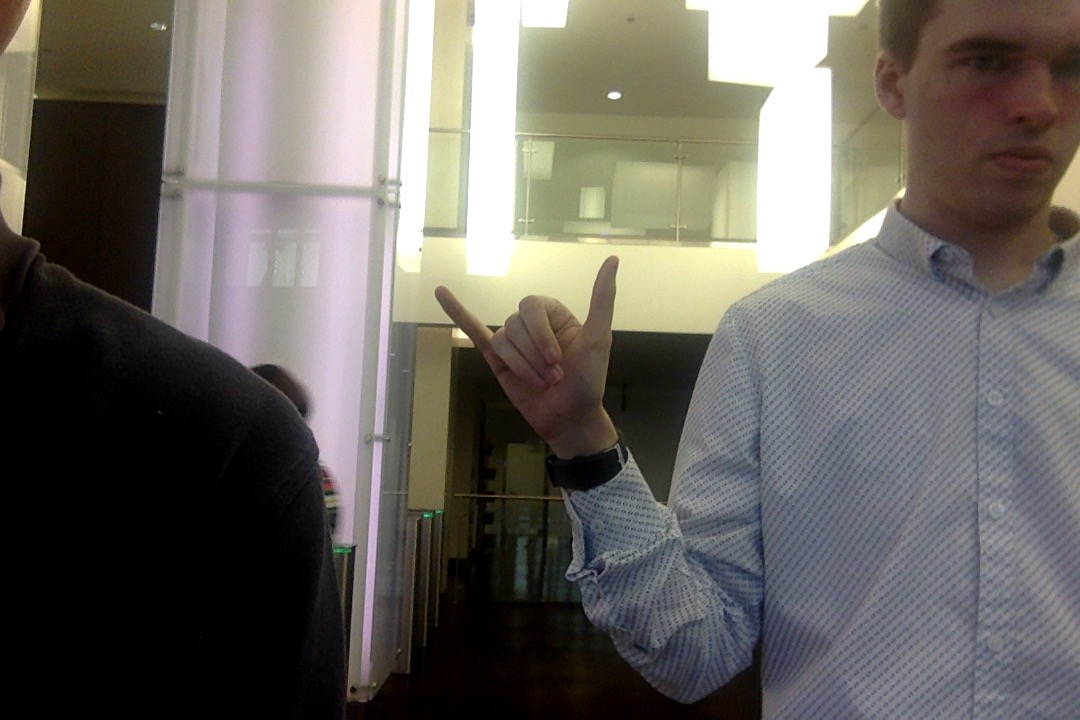y: (431, 248, 627, 437)
